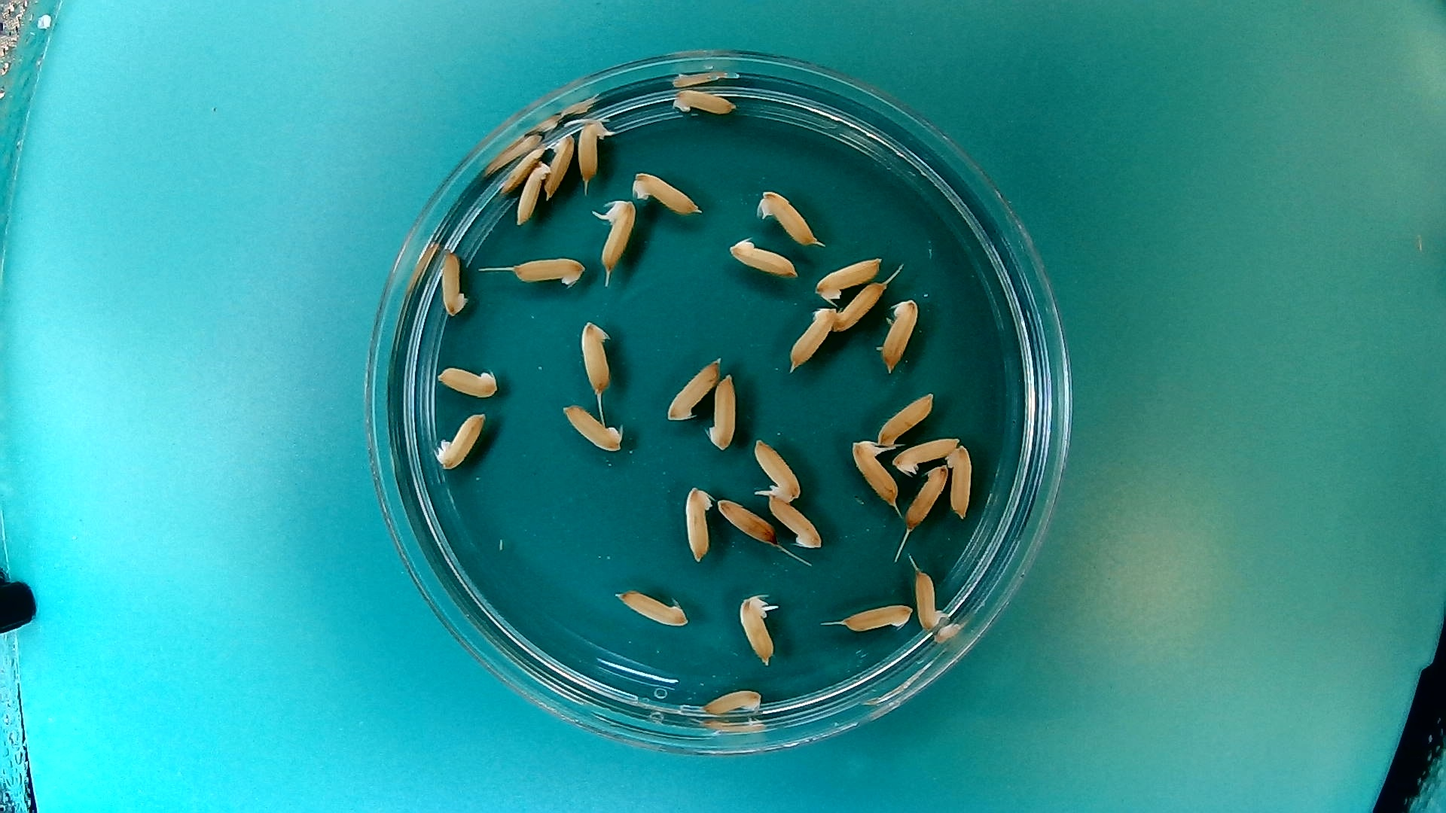no: (754, 185, 823, 248), (664, 353, 724, 422), (630, 166, 706, 216), (812, 252, 884, 304), (877, 294, 922, 376), (786, 302, 837, 374), (432, 409, 489, 472), (751, 435, 803, 504), (559, 400, 624, 455), (764, 493, 825, 551), (611, 585, 691, 629), (712, 495, 778, 547), (725, 235, 802, 279), (877, 389, 935, 446), (832, 278, 888, 335), (904, 460, 950, 528), (577, 318, 615, 398), (892, 432, 962, 475), (508, 251, 588, 288), (837, 599, 916, 635), (704, 369, 738, 452), (496, 144, 548, 198), (682, 480, 715, 565), (434, 361, 499, 400), (698, 684, 765, 719), (670, 87, 739, 120), (514, 165, 550, 227), (945, 442, 973, 521), (440, 248, 471, 318), (544, 131, 575, 200)
yes: (849, 434, 900, 510), (592, 196, 639, 276), (736, 589, 782, 667), (576, 113, 613, 182), (913, 568, 952, 632)
